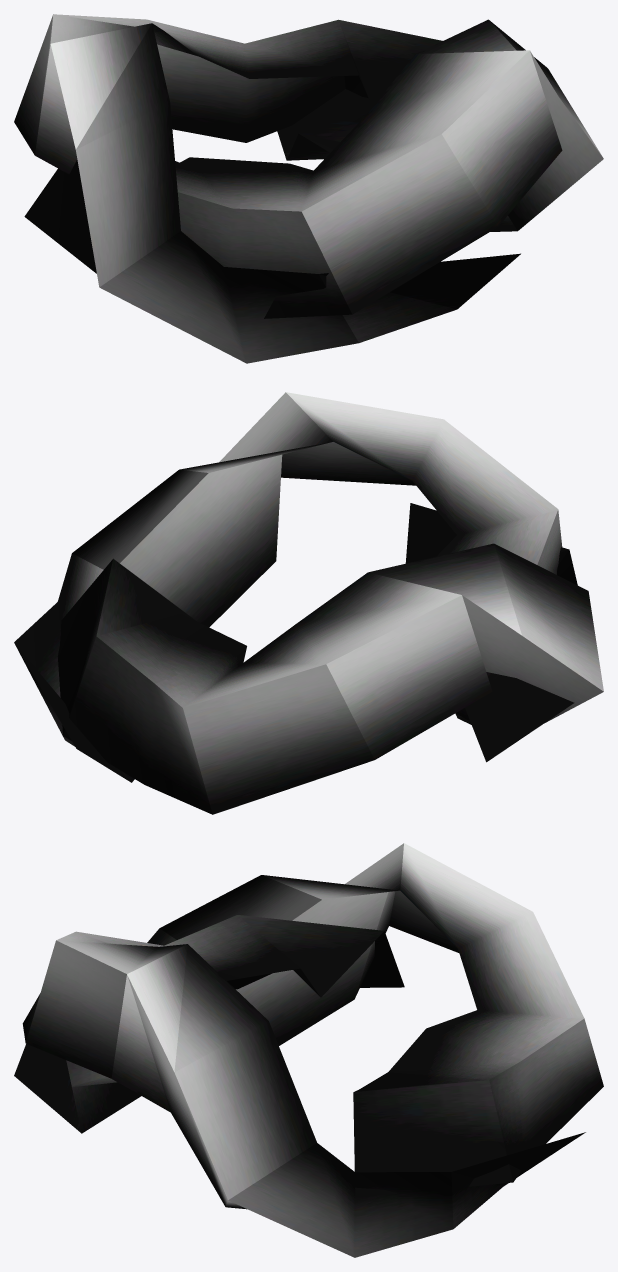
Rendered from vfx_kurp_0782.dae.
The picture shows the model from 3 angles, top to bottom: view 1: azimuth 30°, elevation 25°; view 2: azimuth 150°, elevation 25°; view 3: azimuth 270°, elevation 25°; orthographic projection. The views are drawn at different scales.
Visible parts, largest first — view 1: vfx_kurp_0782; view 2: vfx_kurp_0782; view 3: vfx_kurp_0782.
Part boxes in pixels (bbox=[...]): vfx_kurp_0782: bbox=[14, 14, 603, 363]; vfx_kurp_0782: bbox=[14, 392, 603, 814]; vfx_kurp_0782: bbox=[14, 843, 603, 1257].
Bounding box in the file's own units: 10.53 × 11.32 × 5.13.
1 material, 1 textured.
